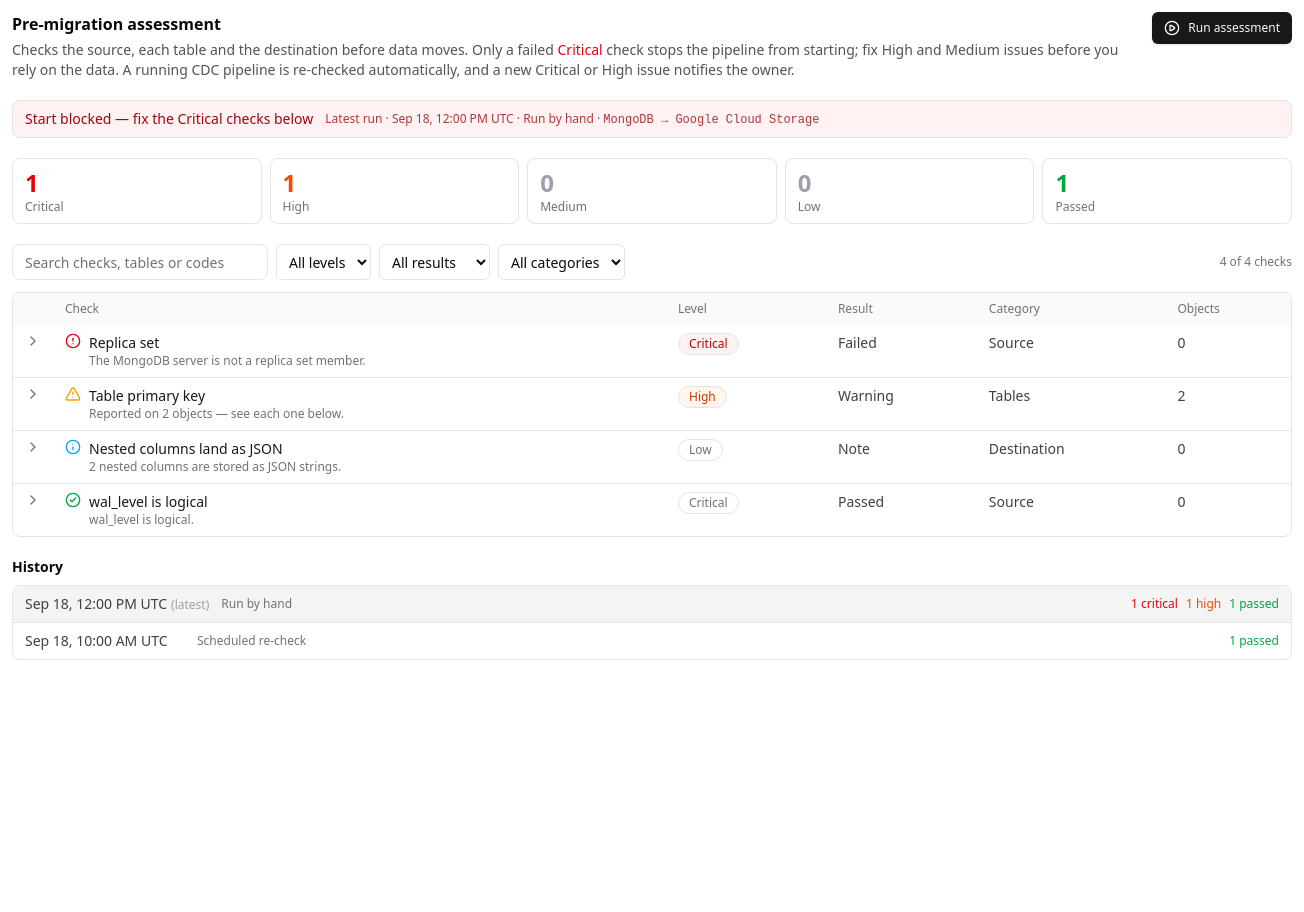
Test: AssessmentTab › opens an older run from the history
Expected: the text "Start blocked — fix the Critical checks below" is shown, [25,109,313,129]
Click the text "Scheduled re-check": coordinates (252, 641) [197,633,306,649]
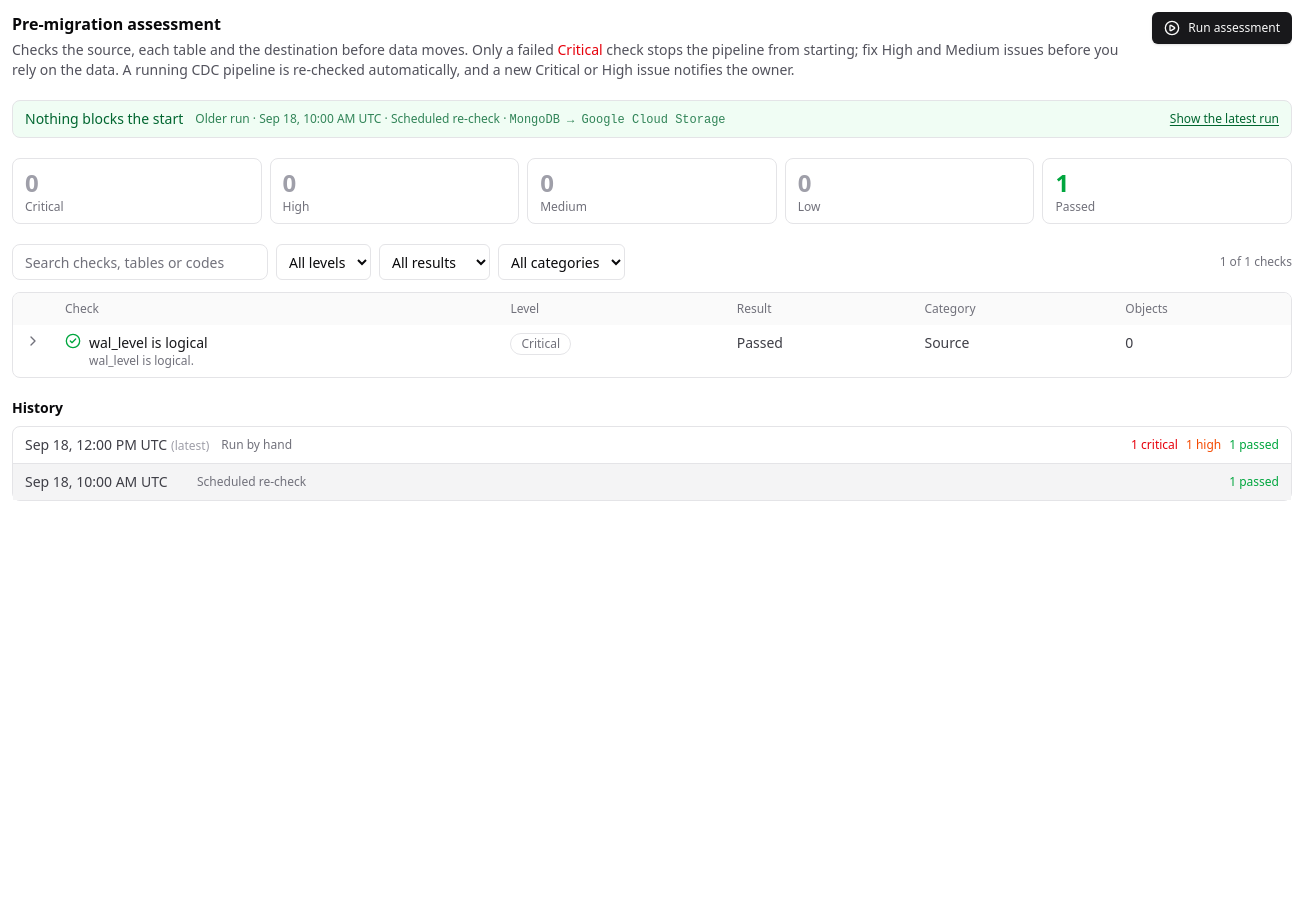
Now the text "Nothing blocks the start" is shown, box [25,109,183,129]
Now the text "Older run" is shown, box [195,110,250,126]
Click the button "Show the latest run": coordinates (1224, 119) [1170,111,1279,127]
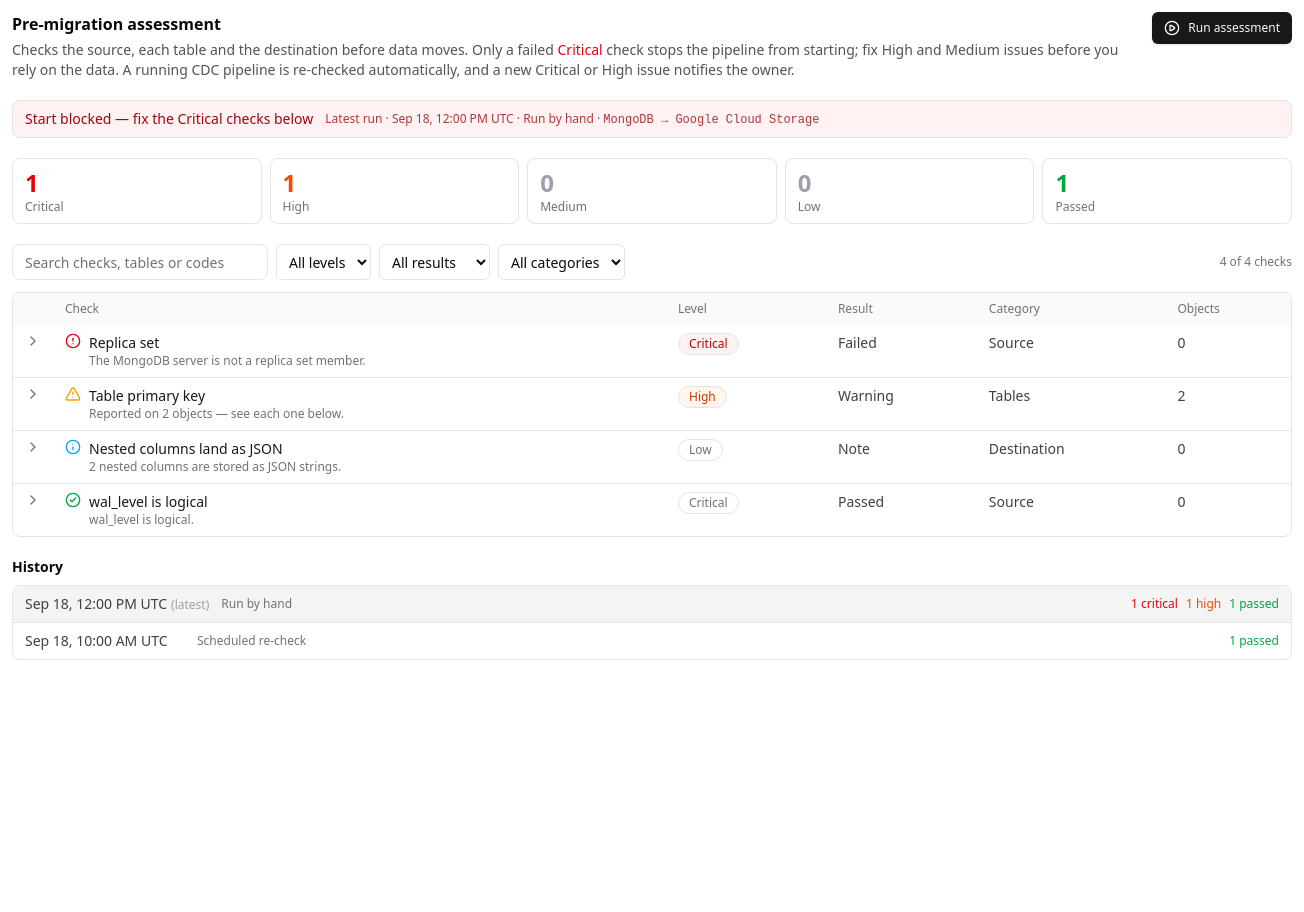
Now the text "Start blocked — fix the Critical checks below" is shown, box [25,109,313,129]
